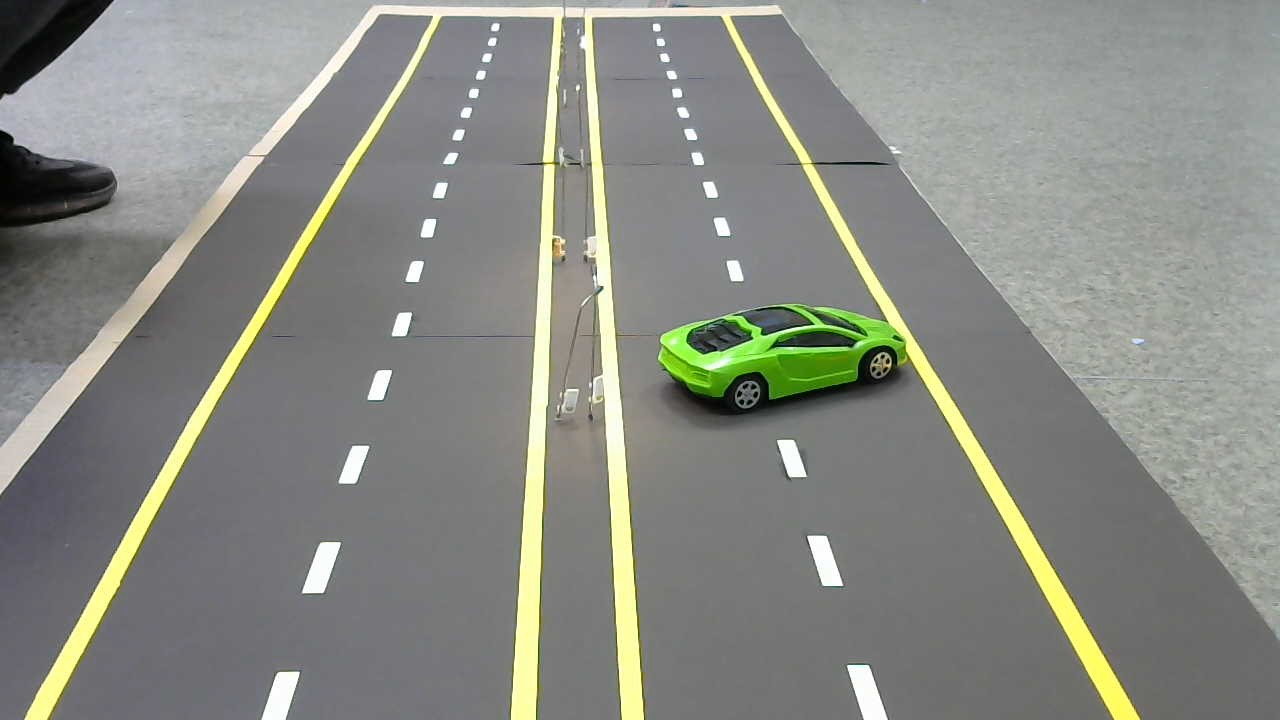overturn_car: (654, 299, 915, 419)
